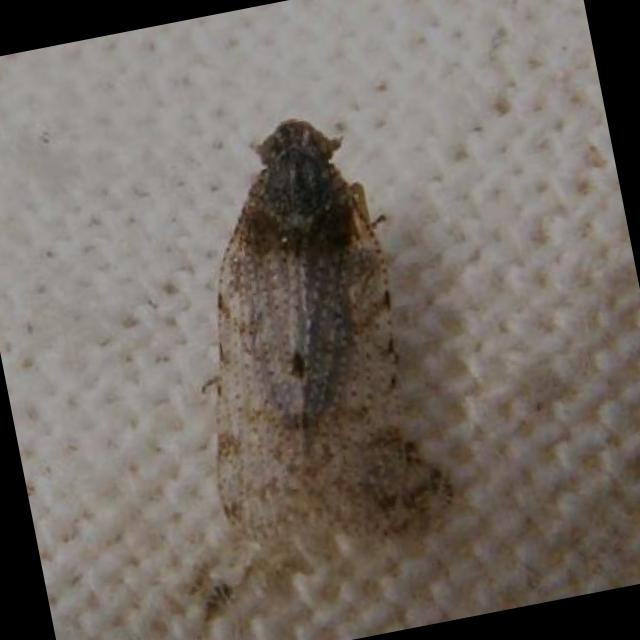brown-planthopper: (150, 101, 426, 549)
